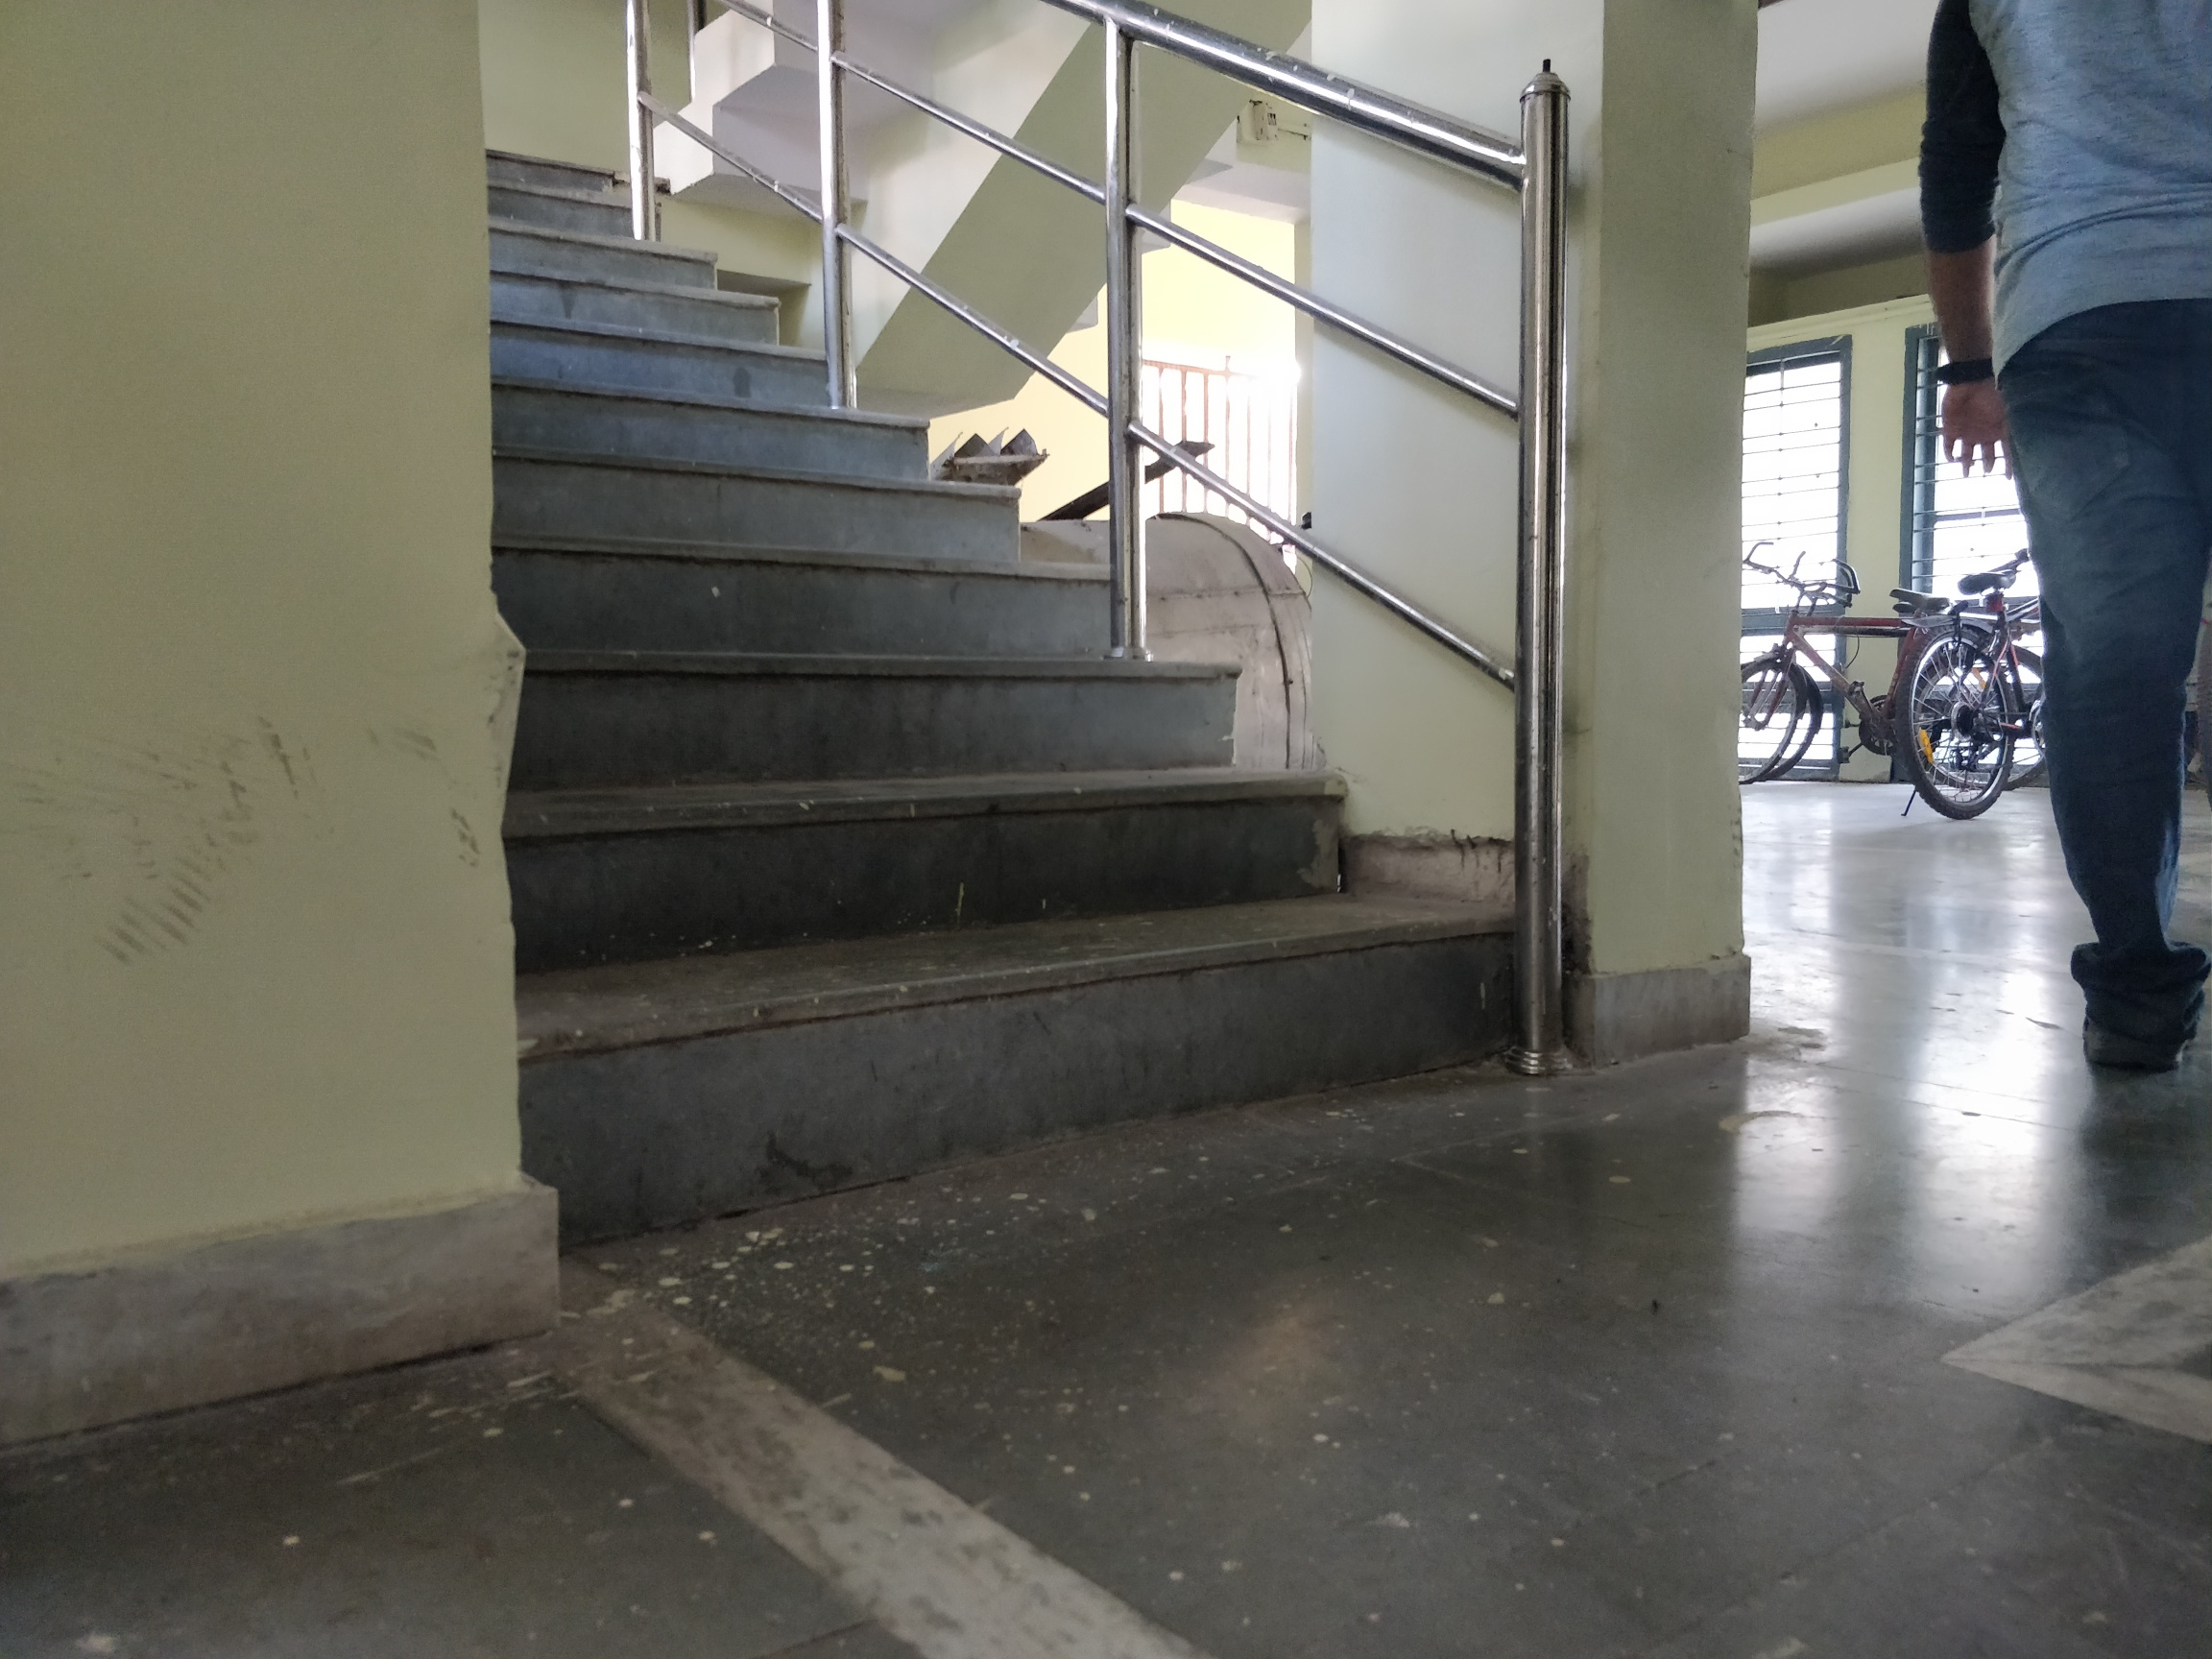stairs_up: (479, 99, 1576, 1176)
